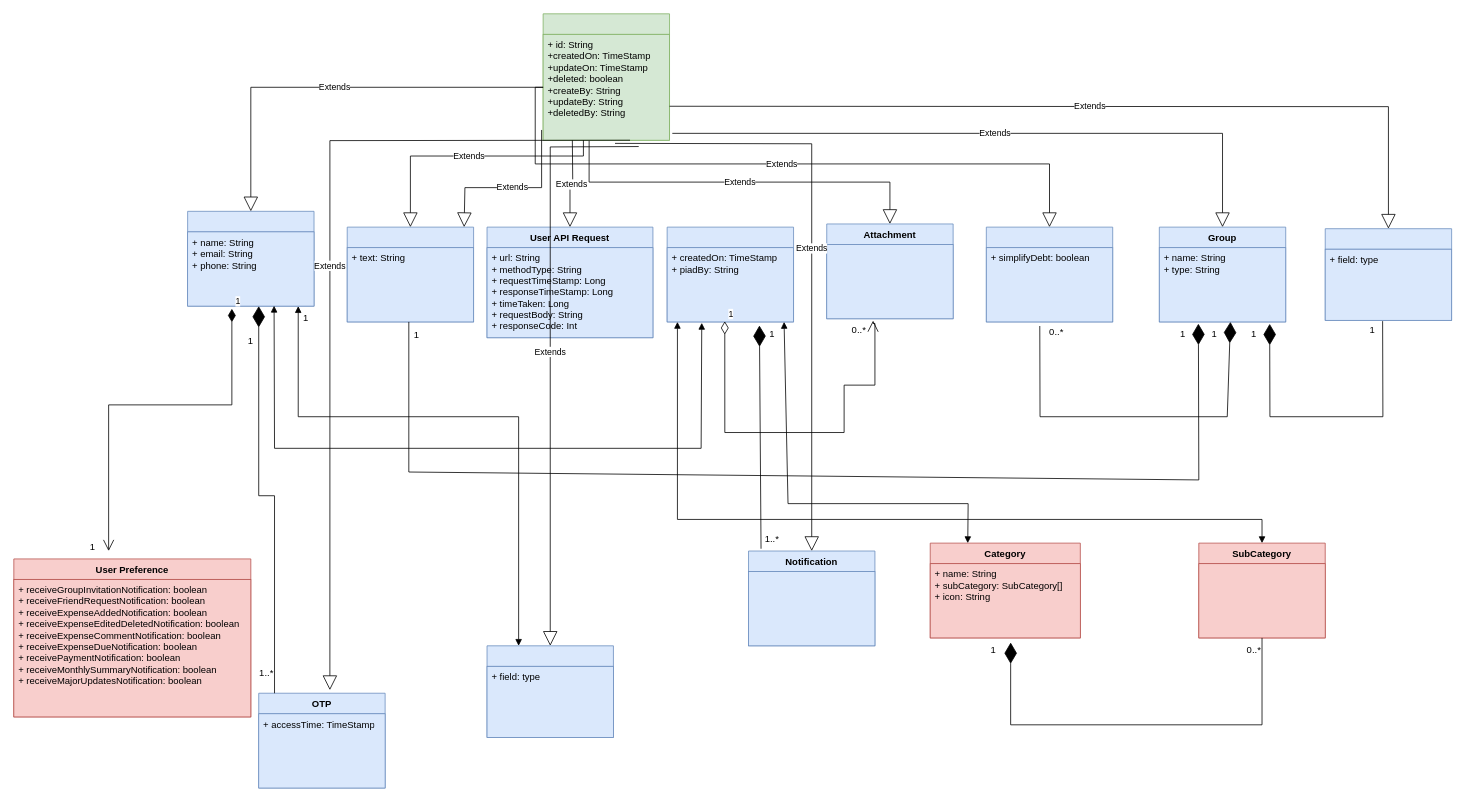
Some shapes in this 1465 by 804 pixel diagram are drawn without their labels. Here are the shapes that lost their labels. From the top down, the box of each, then its label:
(542, 13, 670, 140): Abstarct Entity
(187, 211, 314, 306): User
(346, 226, 474, 322): Group Whiteboard
(666, 226, 794, 322): Transaction
(986, 226, 1113, 322): Group Setting
(1324, 228, 1452, 320): GroupLedger
(826, 244, 953, 319): + name: String + path: String
(748, 571, 875, 646): + time: TimeStamp + iconPath: String
(1198, 563, 1325, 638): + name: String + icon: String
(486, 645, 613, 737): Debt
